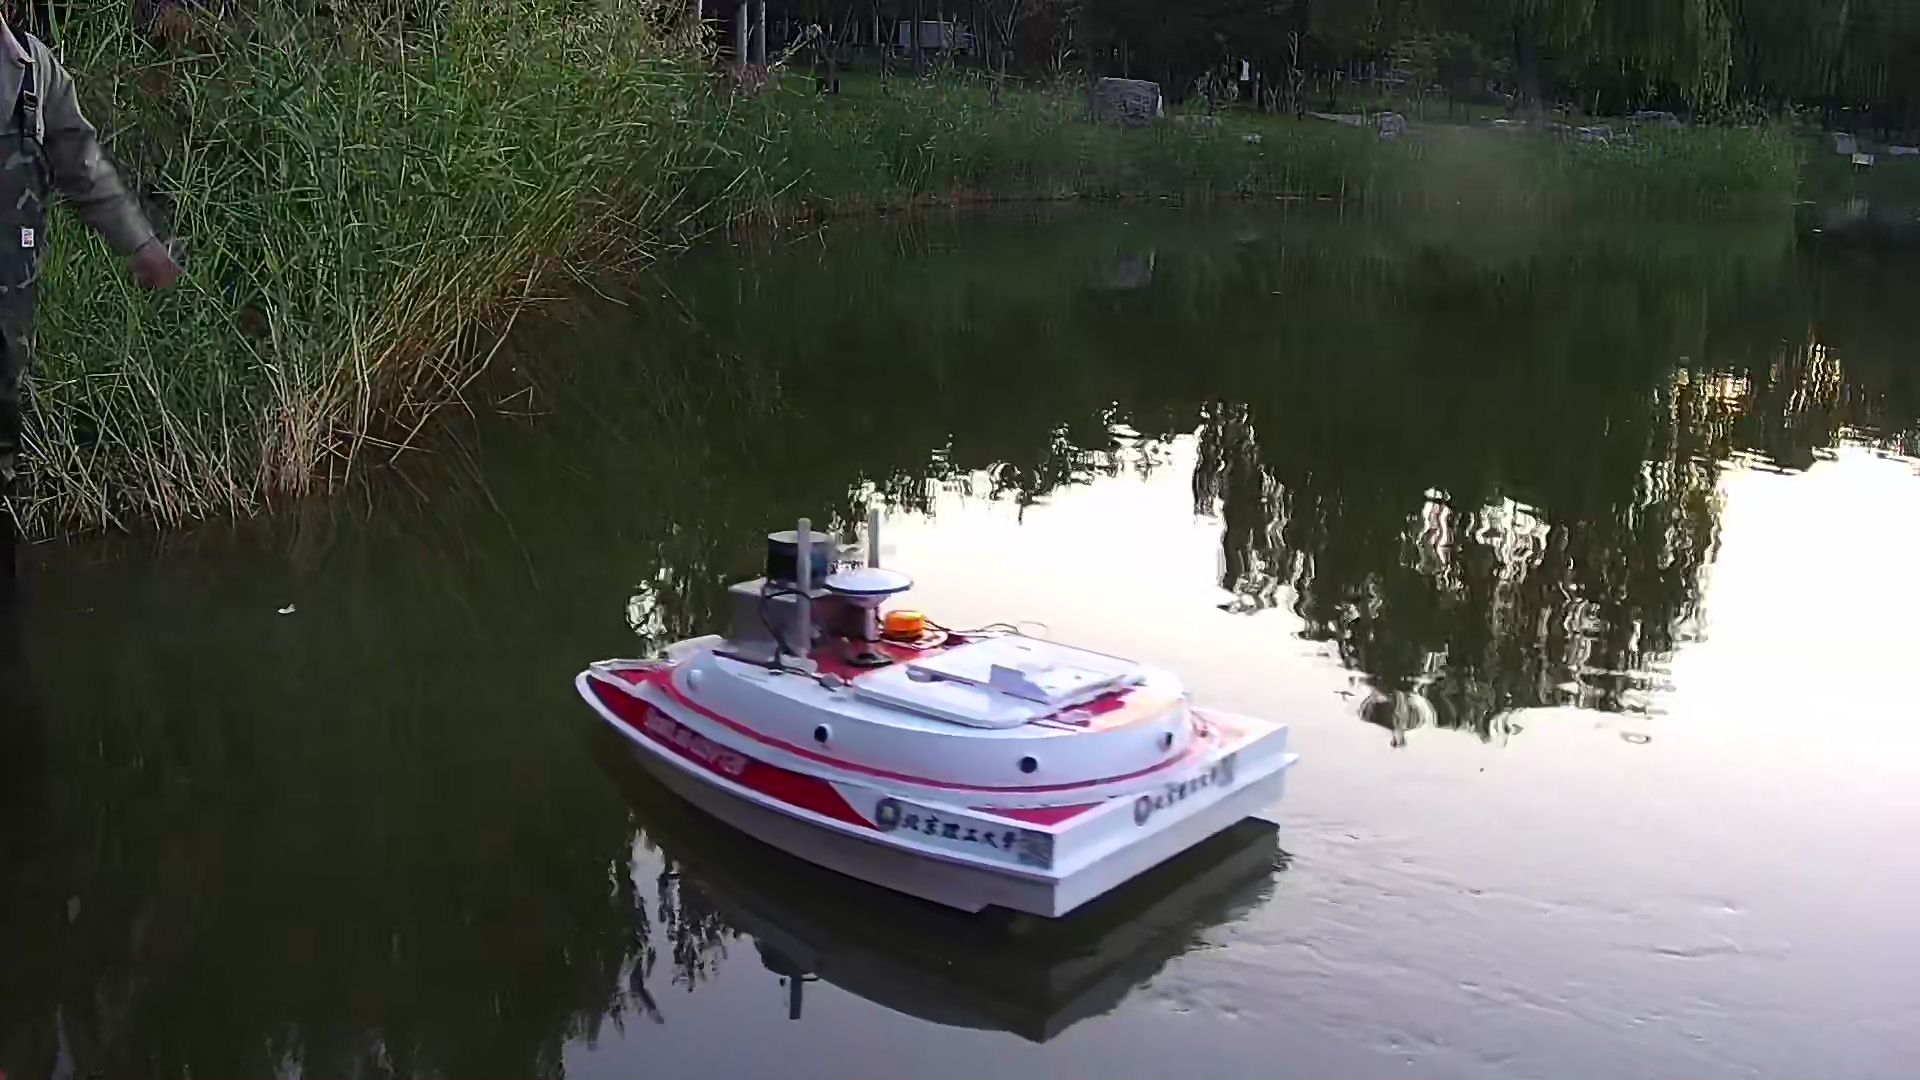boat: (559, 510, 1304, 940)
